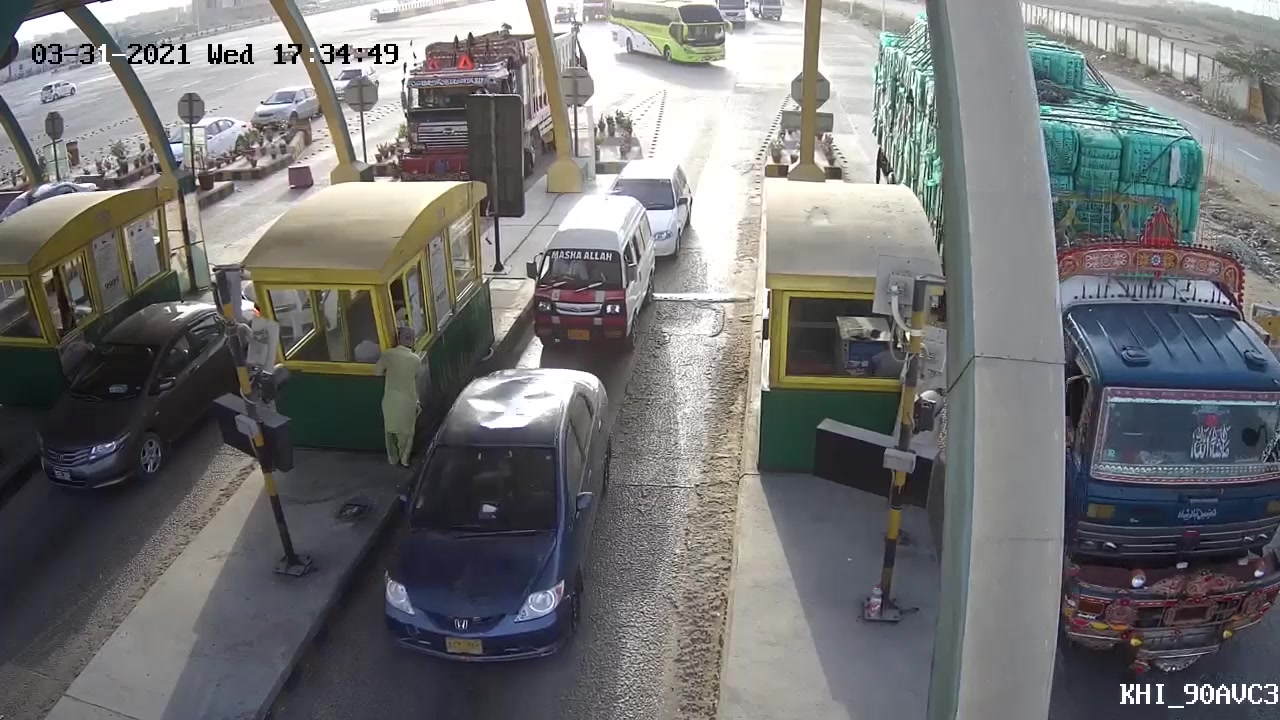F1: (385, 366, 614, 659), (533, 191, 656, 355)
